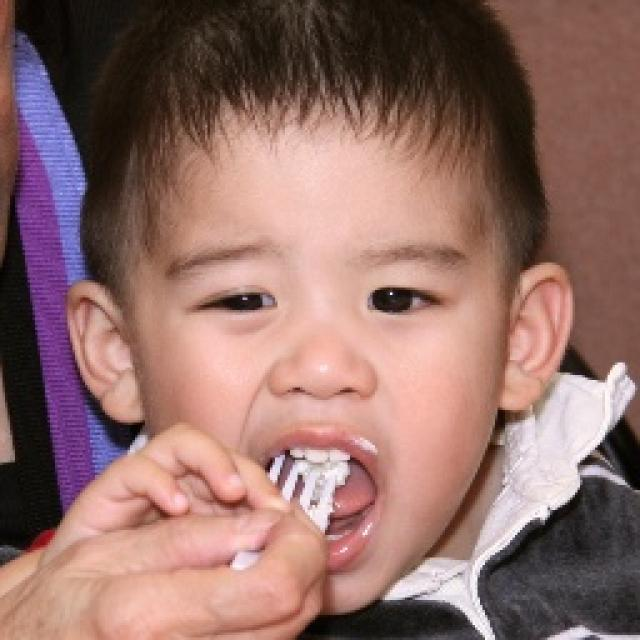earlobe: (498, 262, 573, 414), (67, 280, 145, 425)
